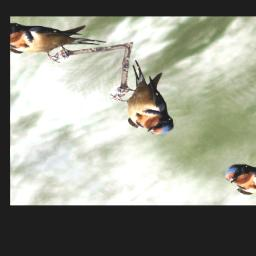Swallow: (84, 59, 208, 143)
